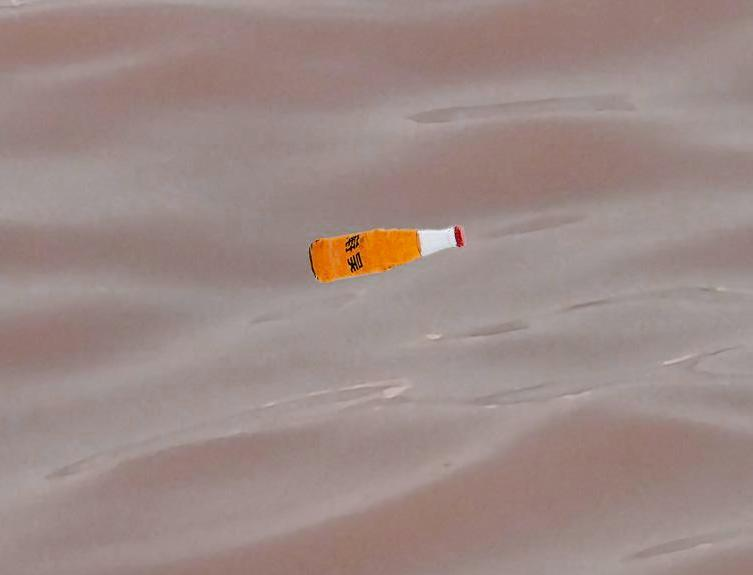Plastic: (308, 221, 465, 282)
